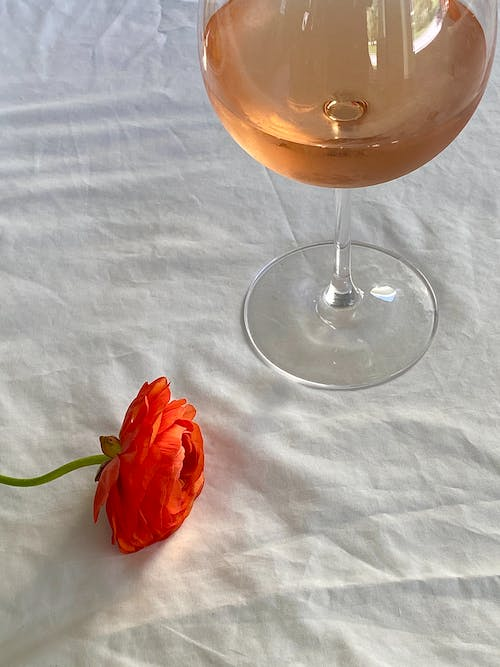alcohol: (198, 0, 500, 391)
